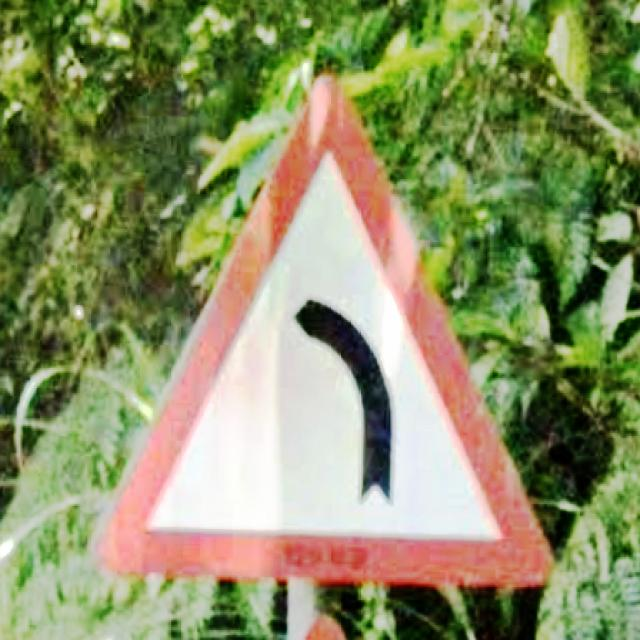leftbend: (91, 78, 554, 590)
